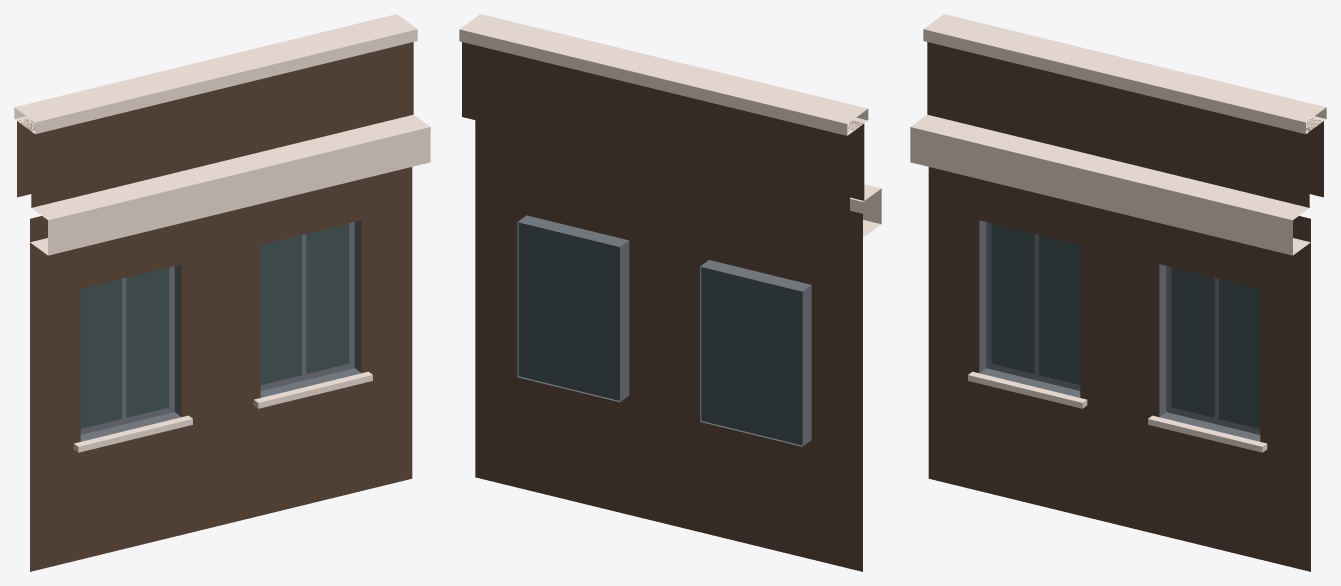
File: top-w3.fbx
3 renders of one model, left to right at view 1: azimuth 30°, elevation 25°; view 2: azimuth 150°, elevation 25°; view 3: azimuth 330°, elevation 25°, orthographic.
Visible parts, largest first — view 1: a2001/800/top-w3; view 2: a2001/800/top-w3; view 3: a2001/800/top-w3.
Part boxes in pixels (x1,y1,x2,y2): a2001/800/top-w3: [14, 14, 430, 571]; a2001/800/top-w3: [459, 14, 881, 571]; a2001/800/top-w3: [910, 14, 1326, 571].
Size of the model in its own units: 3.4 by 3.85 by 0.52.
